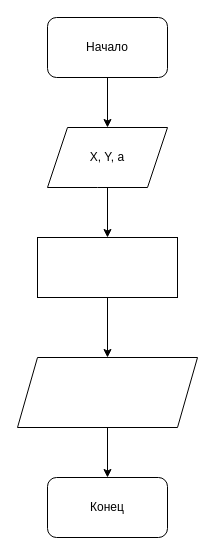
Some shapes in this 215 by 555 pixel diagram are drawn without their labels. The centre of each missing label's shape, as x and y in pixels:
Вывод: brig12_days: point 107,392
Вычисление времени: a / (a/X + a/Y): point 107,267
